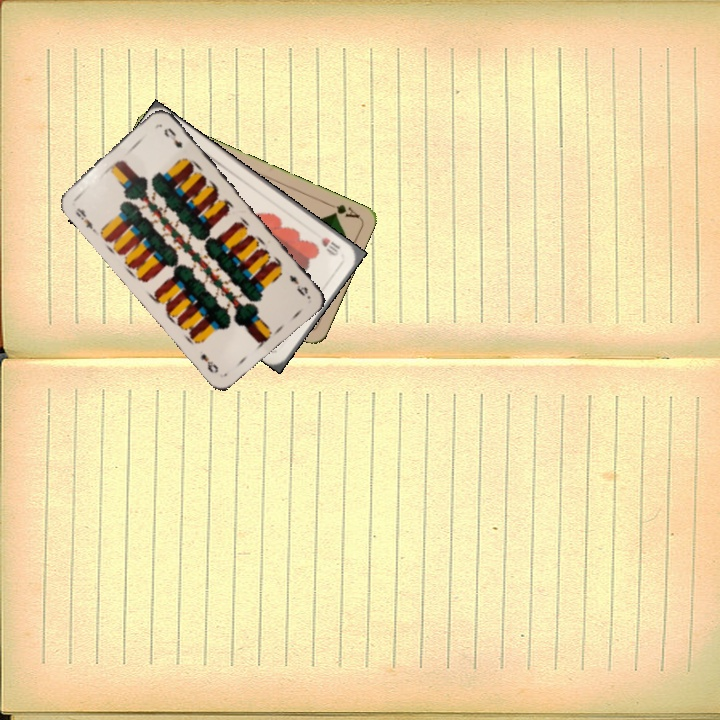E9: (71, 204, 98, 234), (285, 271, 311, 299)
GA: (323, 199, 362, 221)
H10: (317, 233, 343, 258)
